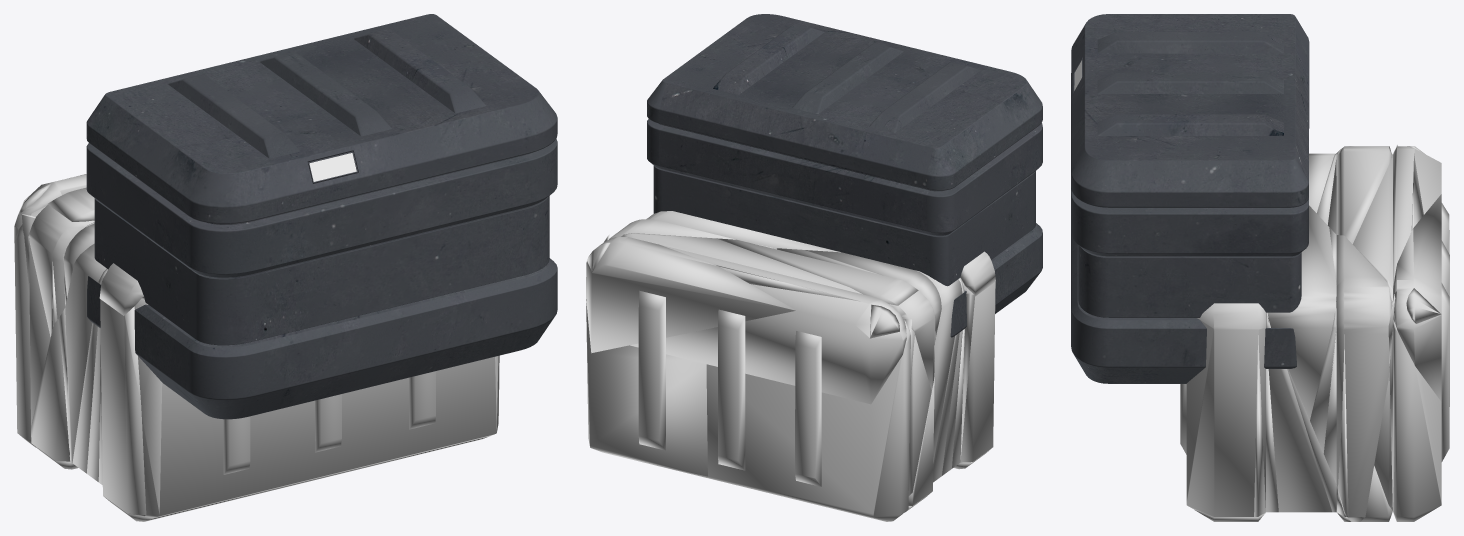
File: SM_StorageBox_02.fbx
3 renders of one model, left to right at view 1: azimuth 30°, elevation 25°; view 2: azimuth 150°, elevation 25°; view 3: azimuth 270°, elevation 25°, orthographic. The views are drawn at different scales.
Visible parts, largest first — view 1: SM_StorageBox_02, SM_StorageBox_02_ConvexHulls; view 2: SM_StorageBox_02_ConvexHulls, SM_StorageBox_02; view 3: SM_StorageBox_02, SM_StorageBox_02_ConvexHulls.
Part boxes in pixels (x1,y1,x2,y2): SM_StorageBox_02: [86, 14, 557, 419]; SM_StorageBox_02_ConvexHulls: [14, 174, 499, 521]; SM_StorageBox_02_ConvexHulls: [586, 211, 995, 521]; SM_StorageBox_02: [647, 14, 1042, 337]; SM_StorageBox_02: [1071, 14, 1309, 383]; SM_StorageBox_02_ConvexHulls: [1180, 145, 1449, 521].
Bounding box in the file's own units: 1.43 × 1.46 × 1.36.
